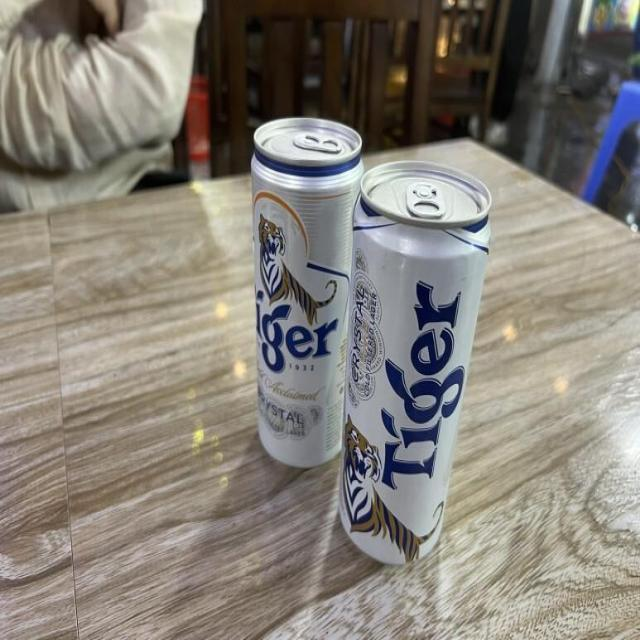beer-can: (344, 155, 490, 590), (250, 114, 363, 473)
